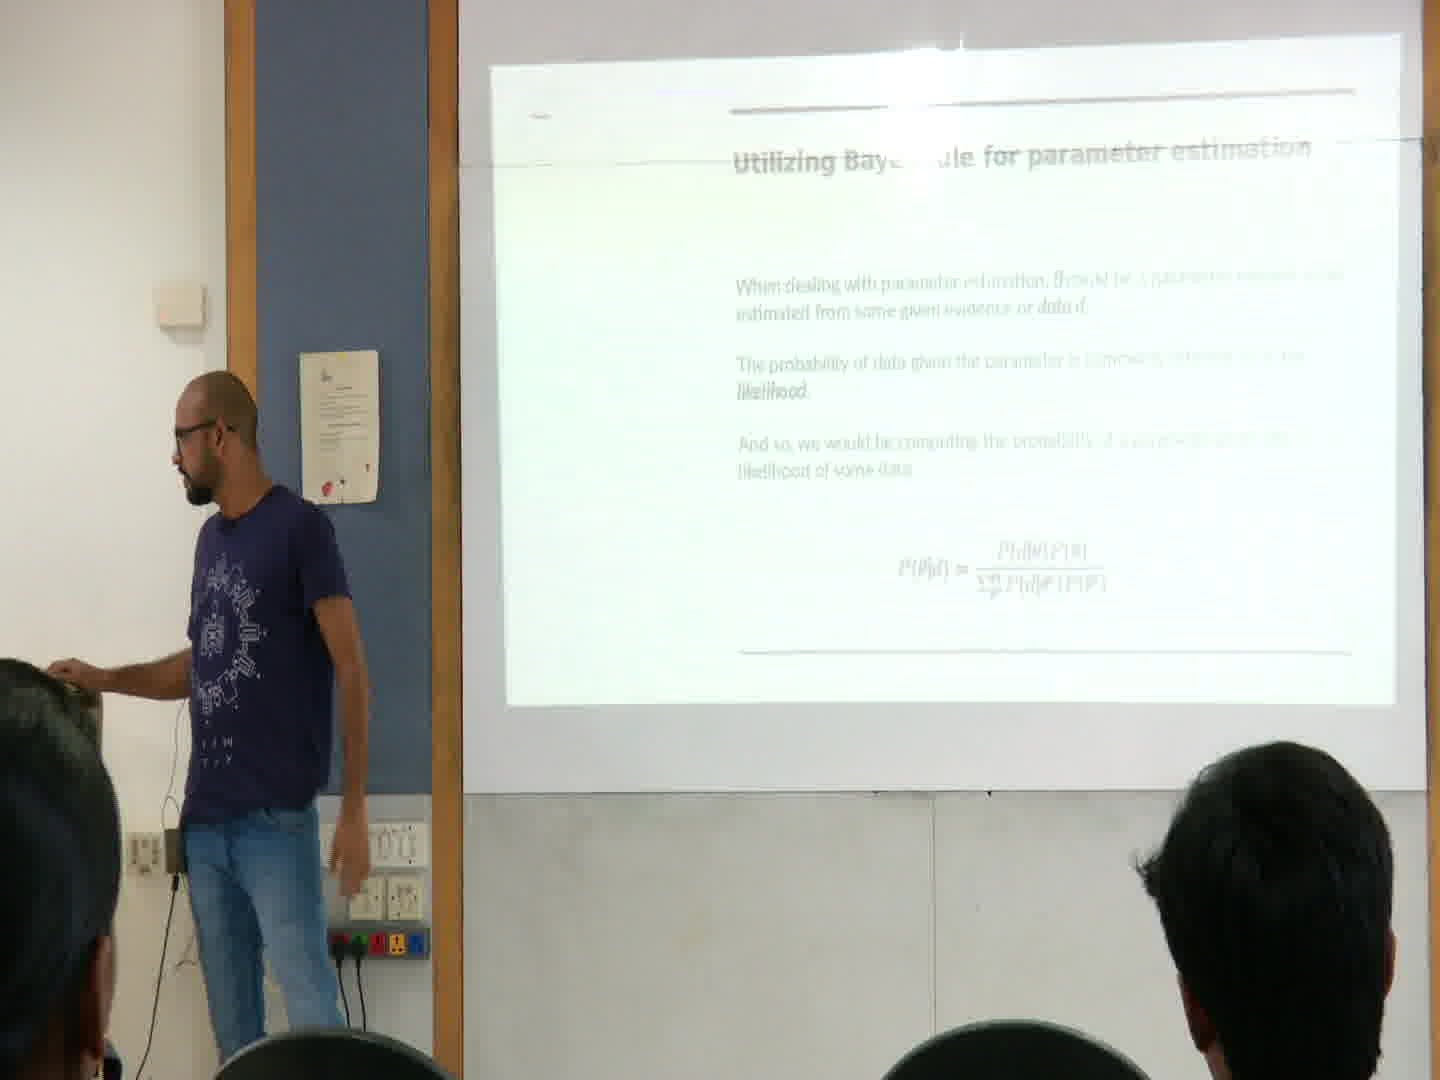eq: (892, 535, 1115, 605)
